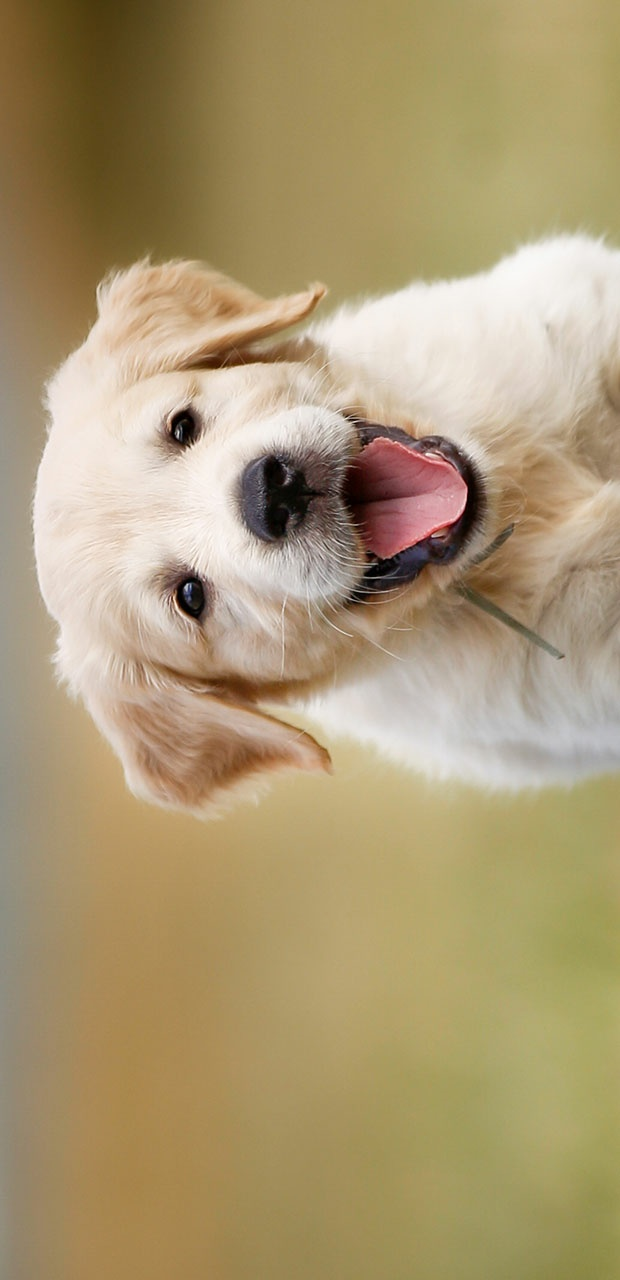dog: (32, 255, 498, 812)
